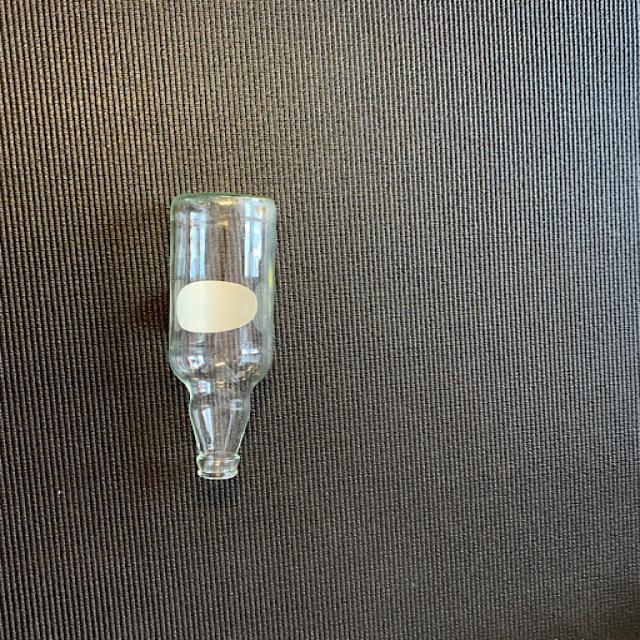litter: (168, 189, 284, 483)
